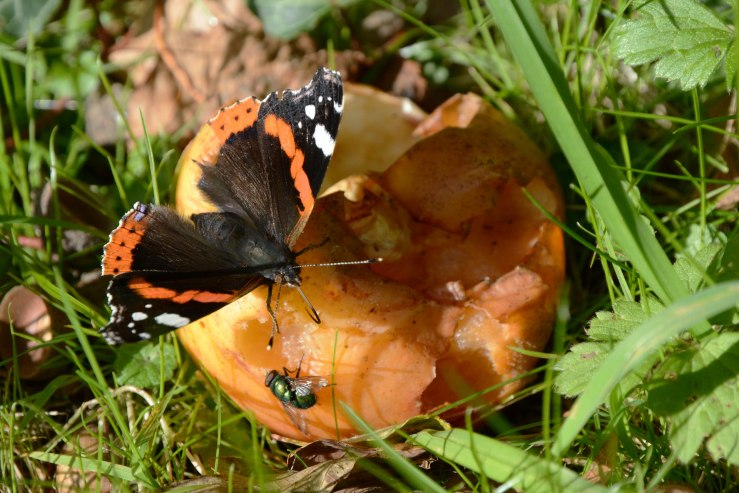green bottles fly: (257, 353, 342, 432)
